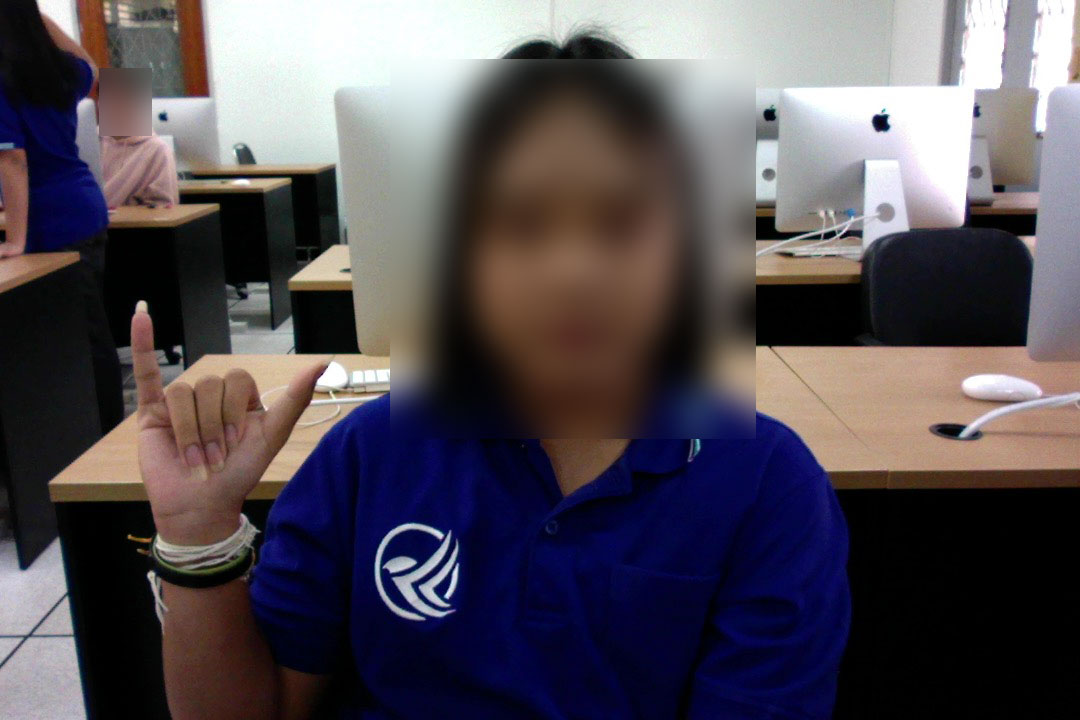yor: (125, 294, 336, 553)
